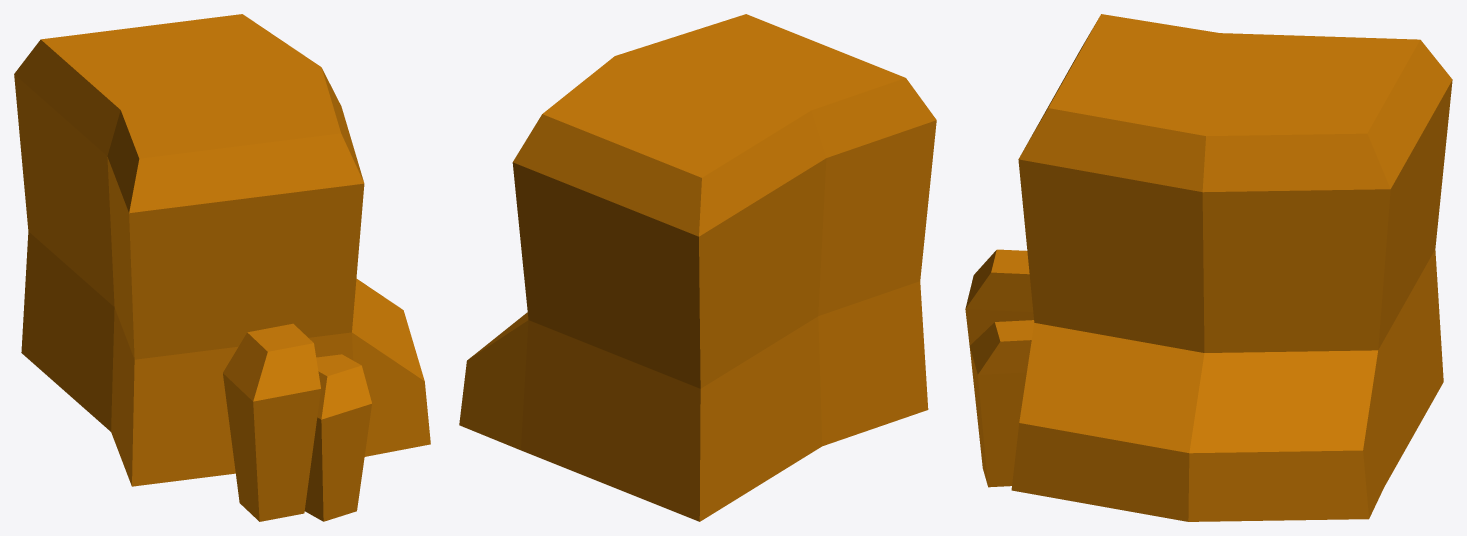
File: brigesRock_Type6_03_mesh_001.fbx
3 renders of one model, left to right at view 1: azimuth 30°, elevation 25°; view 2: azimuth 150°, elevation 25°; view 3: azimuth 270°, elevation 25°, orthographic. The views are drawn at different scales.
Parts seen in each view (by area): view 1: Rock Type6 03 mesh.001; view 2: Rock Type6 03 mesh.001; view 3: Rock Type6 03 mesh.001.
Boxes of the visible parts, left/top/right/bottom form: Rock Type6 03 mesh.001: left=14, top=14, right=430, bottom=521; Rock Type6 03 mesh.001: left=459, top=14, right=936, bottom=521; Rock Type6 03 mesh.001: left=965, top=14, right=1452, bottom=521.
Bounding box in the file's own units: 102 × 105 × 120.
